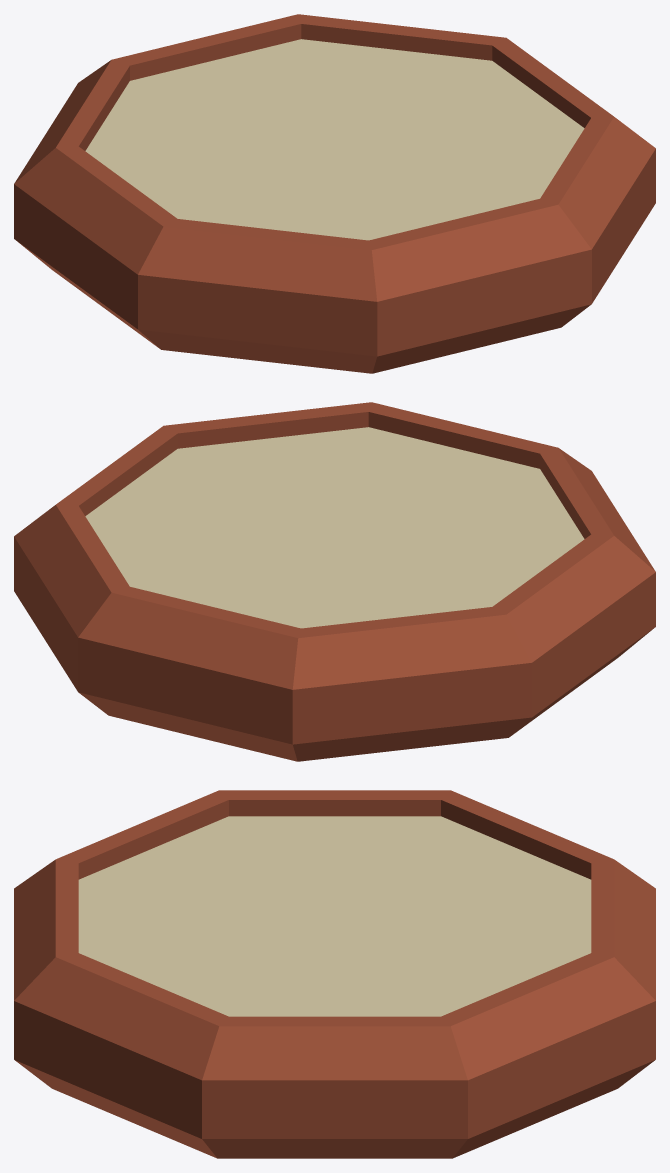
Rendered from checker.fbx.
3 views of the same model, one above another, from view 1: azimuth 30°, elevation 25°; view 2: azimuth 150°, elevation 25°; view 3: azimuth 270°, elevation 25° (orthographic). The views are drawn at different scales.
Visible parts, largest first — view 1: Cylinder_6; view 2: Cylinder_6; view 3: Cylinder_6.
Part boxes in pixels (bbox=[...]): Cylinder_6: bbox=[14, 14, 655, 373]; Cylinder_6: bbox=[14, 402, 655, 761]; Cylinder_6: bbox=[14, 790, 655, 1158].
Size of the model in its own units: 126 by 28.32 by 126.
